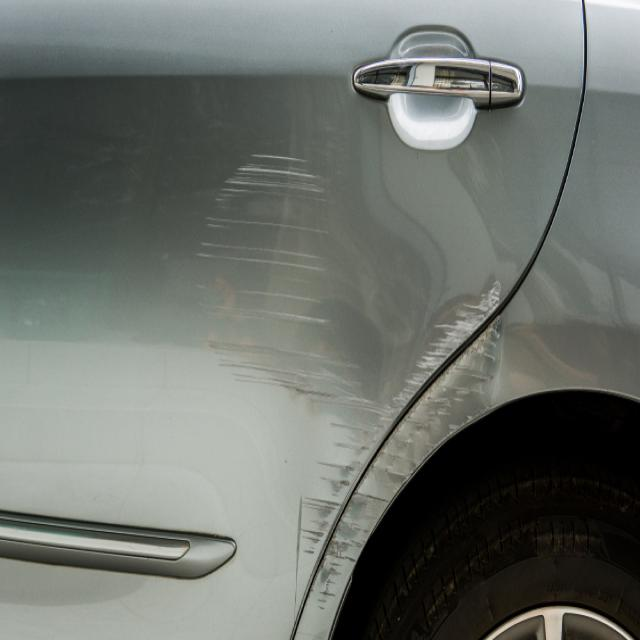dent: (332, 243, 424, 399)
scratch: (194, 142, 506, 574), (307, 311, 505, 615)
